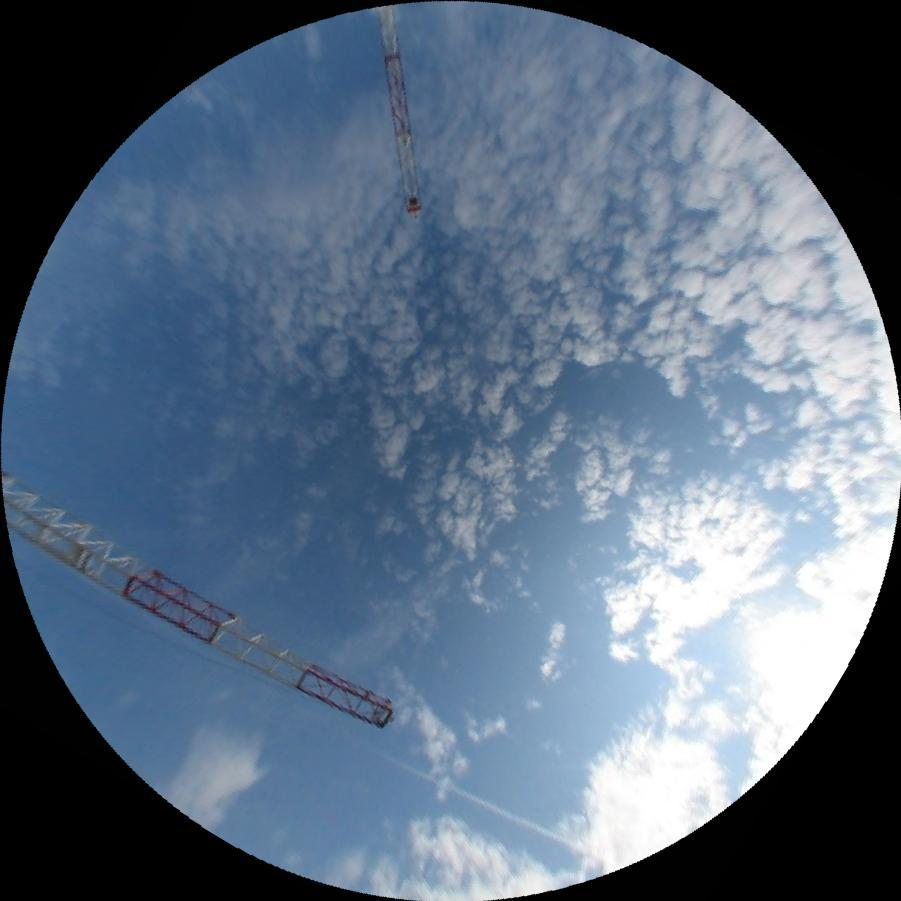contrail young: (367, 743, 586, 856)
